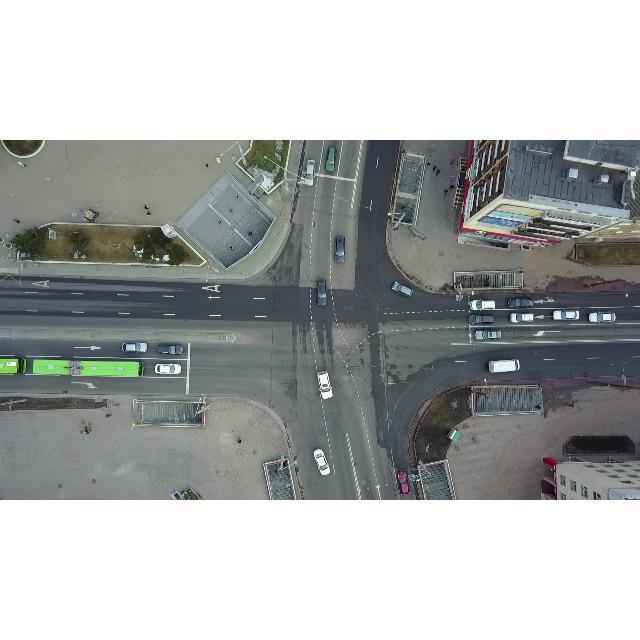vehicle: (316, 370, 334, 400), (488, 358, 520, 374), (313, 448, 331, 476), (154, 362, 182, 376), (391, 282, 414, 298), (470, 298, 496, 312), (156, 343, 184, 355), (316, 278, 328, 306), (334, 236, 346, 264), (552, 309, 580, 321), (474, 329, 502, 341), (588, 311, 616, 323), (397, 471, 411, 495), (121, 341, 147, 353), (469, 313, 495, 325), (509, 312, 535, 324), (508, 297, 534, 307)
